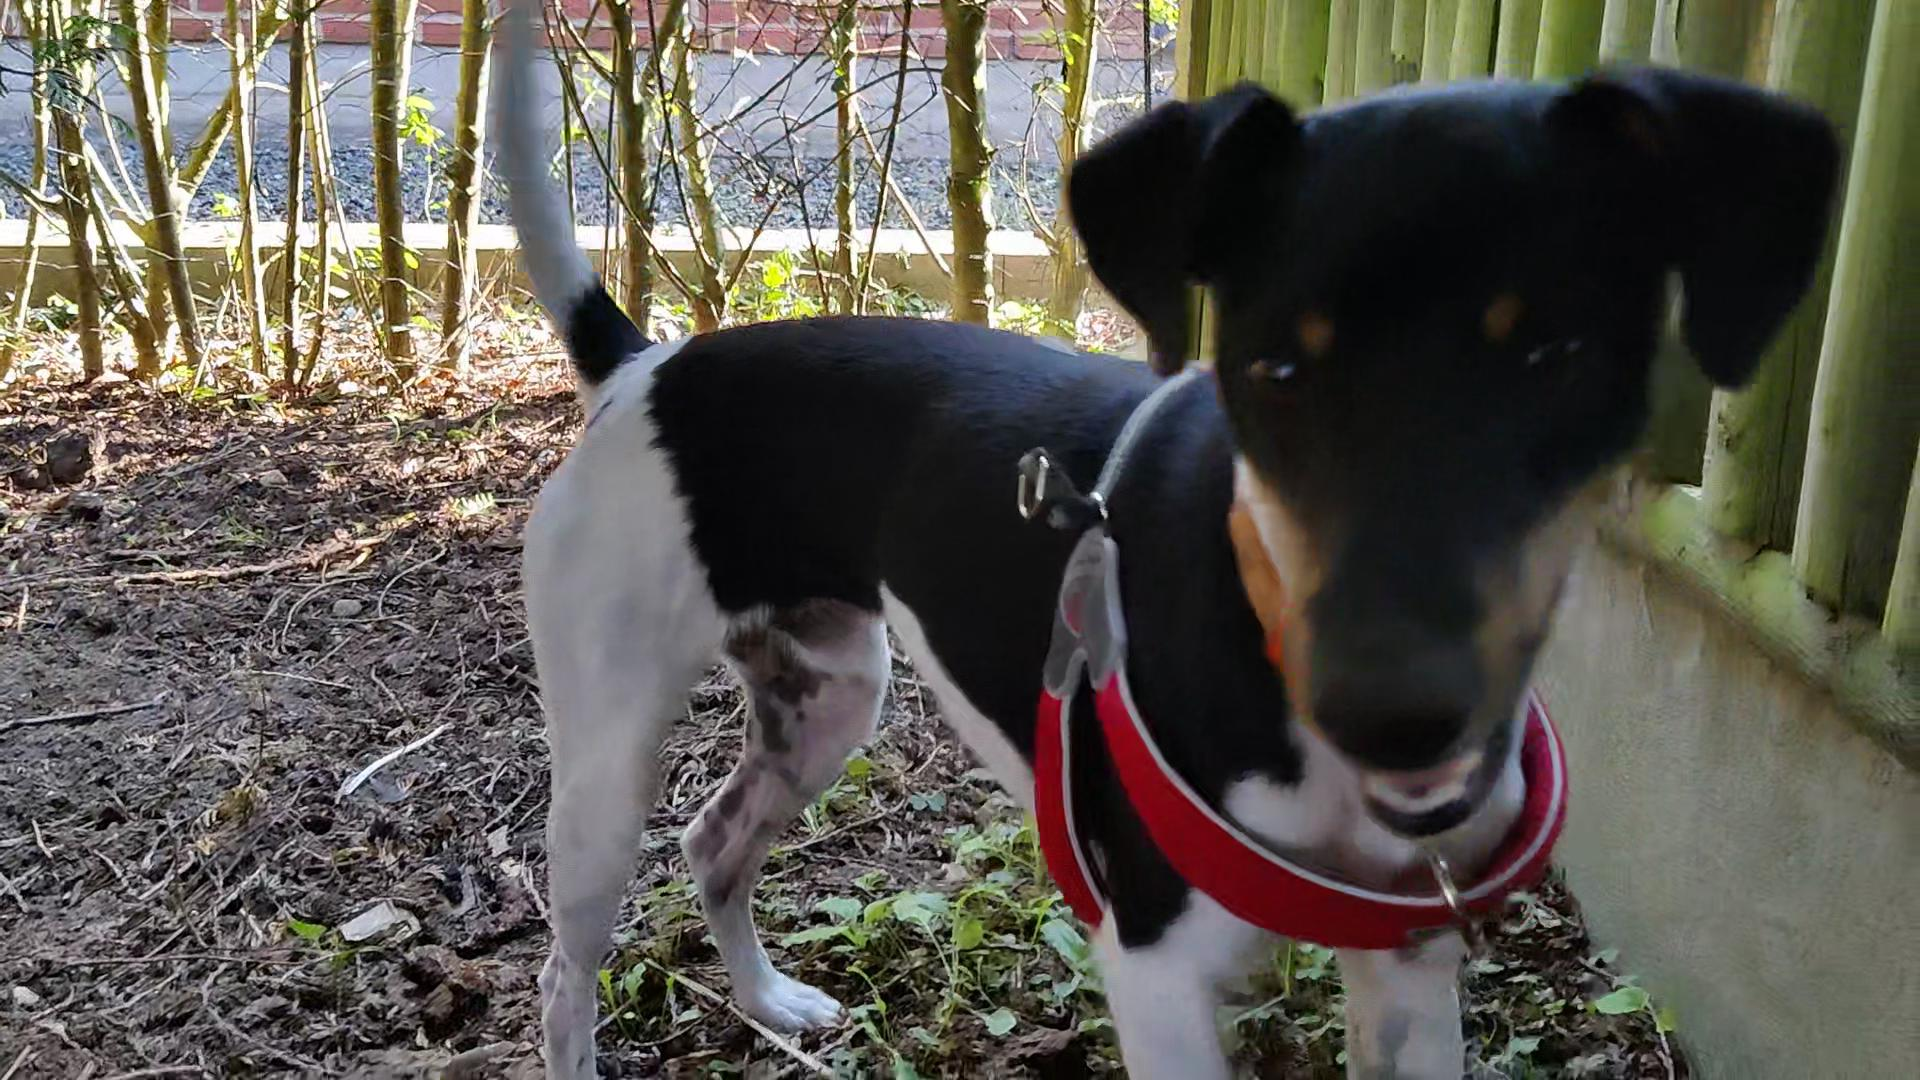Dog: (473, 0, 1865, 1079)
